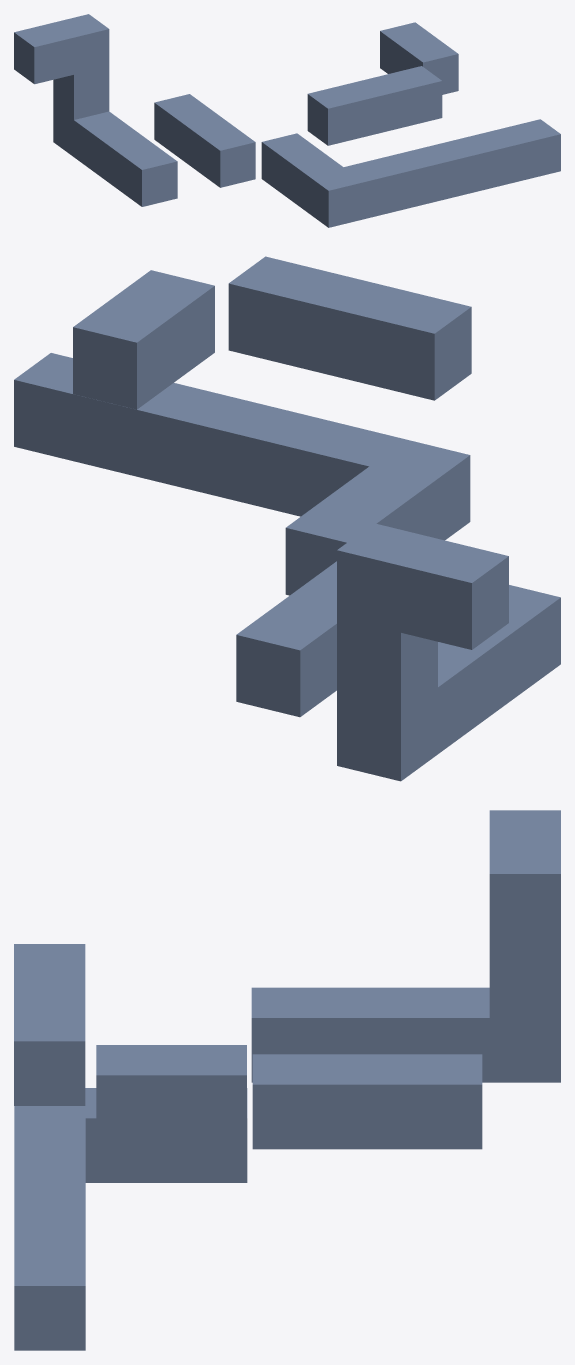
File: kenttä3Collider.fbx
3 renders of one model, top to bottom at view 1: azimuth 30°, elevation 25°; view 2: azimuth 150°, elevation 25°; view 3: azimuth 270°, elevation 25°, orthographic. The views are drawn at different scales.
Visible parts, largest first — view 1: Cube.002; view 2: Cube.002; view 3: Cube.002.
Boxes of the visible parts, box(x1,y1,x2,y2) form: Cube.002: box(14, 14, 560, 227); Cube.002: box(14, 256, 560, 781); Cube.002: box(14, 810, 560, 1350).
Bounding box in the file's own units: 1981 × 580 × 1380.
